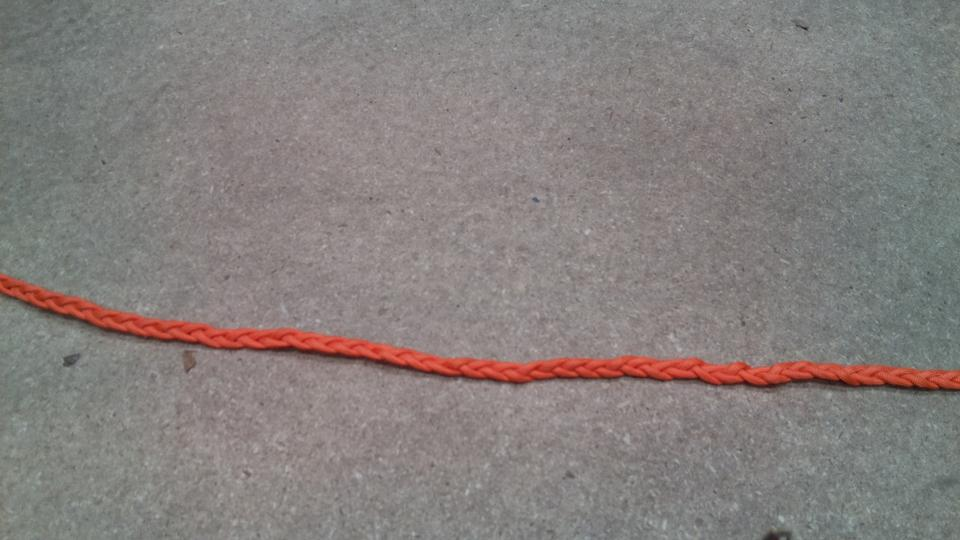rope: (1, 270, 958, 394)
